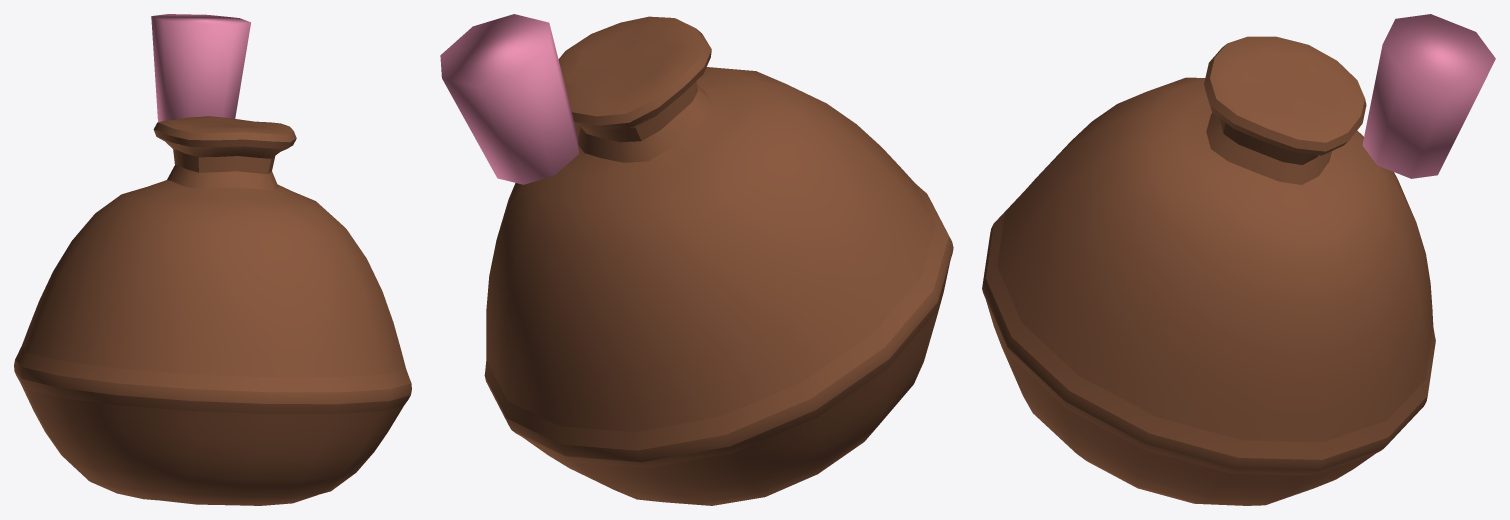
File: bottle.fbx
The picture shows the model from 3 angles, left to right: view 1: azimuth 30°, elevation 25°; view 2: azimuth 150°, elevation 25°; view 3: azimuth 270°, elevation 25°; orthographic projection. The views are drawn at different scales.
Visible parts, largest first — view 1: Cube.084, Cube.085; view 2: Cube.084, Cube.085; view 3: Cube.084, Cube.085.
Part boxes in pixels (x1=…): Cube.084: x1=14, y1=116, x2=411, y2=505; Cube.085: x1=151, y1=14, x2=250, y2=122; Cube.084: x1=484, y1=16, x2=953, y2=505; Cube.085: x1=440, y1=14, x2=578, y2=184; Cube.084: x1=982, y1=36, x2=1435, y2=505; Cube.085: x1=1362, y1=14, x2=1495, y2=178.
Bounding box in the file's own units: 73.68 × 86.29 × 83.18.
